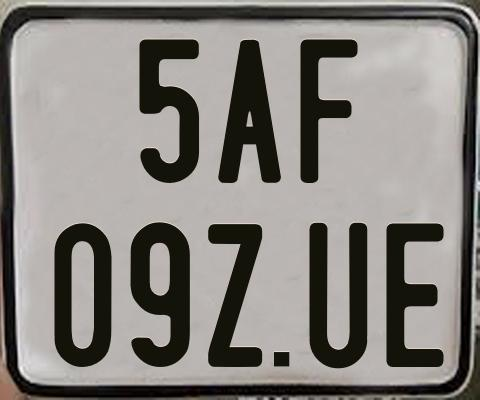0: (51, 223, 114, 373)
5: (139, 38, 199, 187)
9: (128, 220, 193, 366)
A: (217, 39, 282, 182)
E: (383, 223, 446, 368)
F: (300, 37, 359, 184)
U: (307, 220, 370, 370)
Z: (205, 224, 262, 373)
